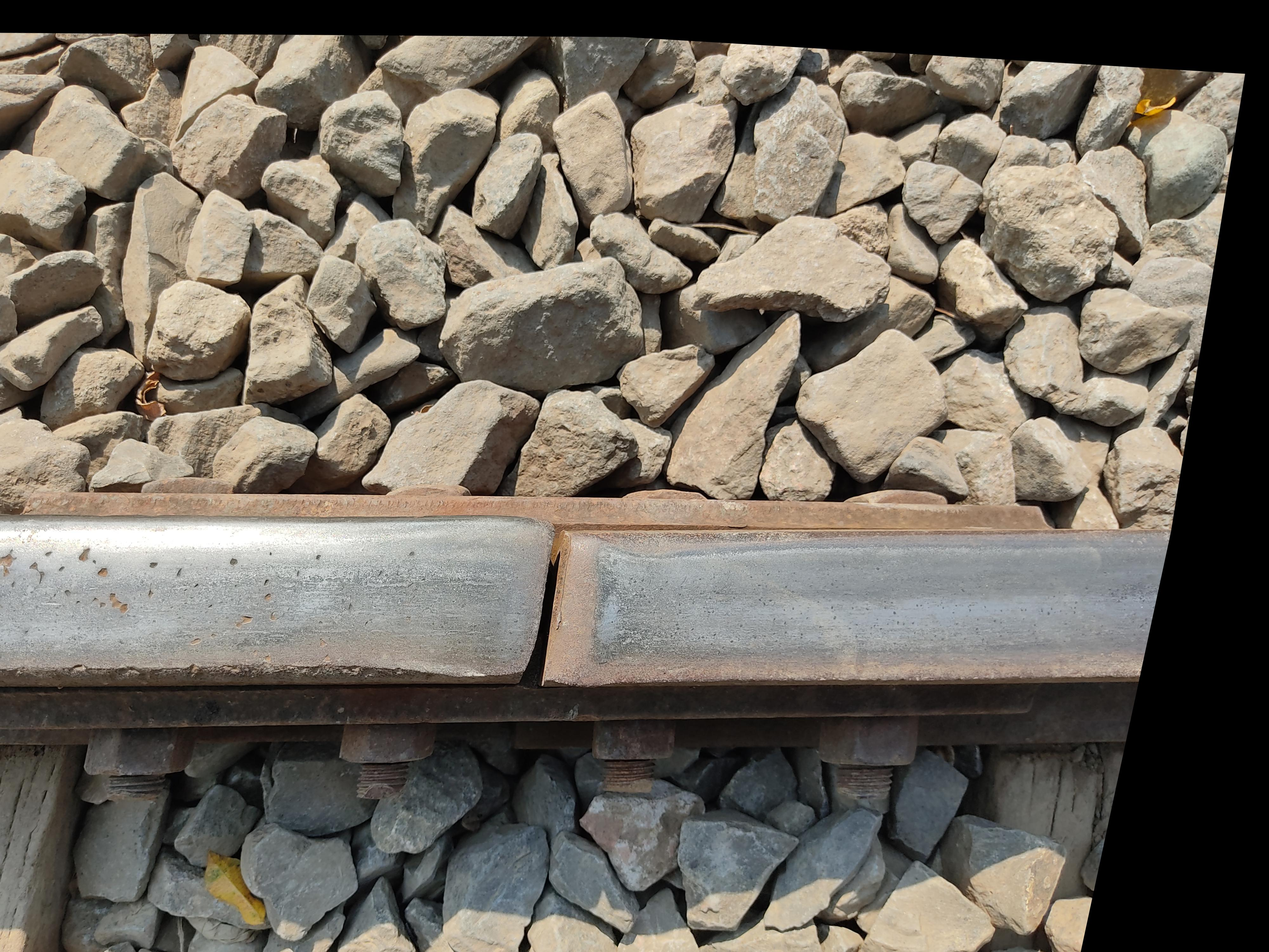person: (317, 412, 775, 837)
